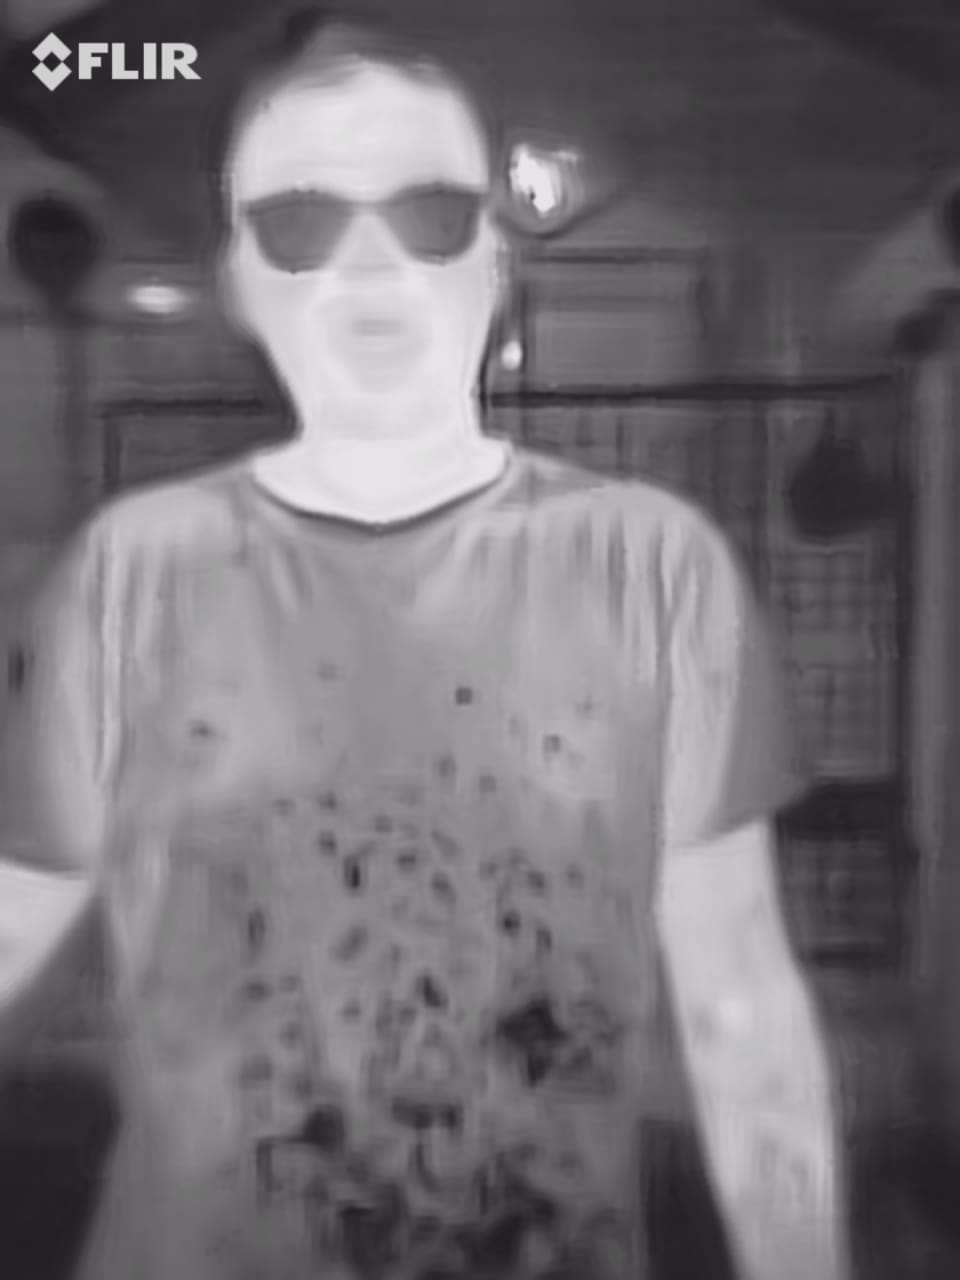head: (214, 46, 517, 463)
